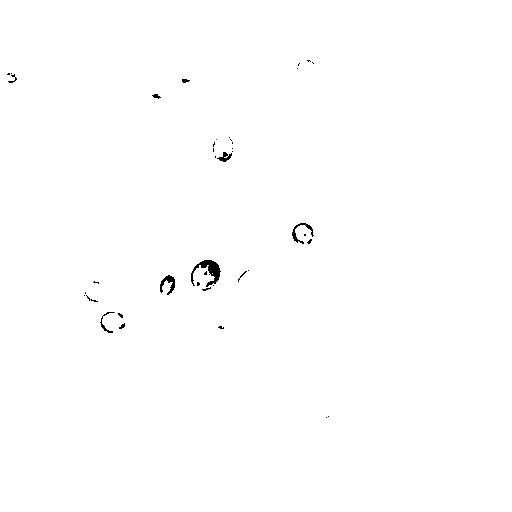micro-algae: (471, 360, 512, 407), (31, 54, 72, 97), (294, 93, 335, 131), (190, 259, 221, 293), (98, 310, 128, 334), (236, 267, 260, 296), (212, 134, 235, 162), (291, 222, 314, 246), (83, 279, 108, 301), (297, 58, 316, 82), (158, 275, 177, 297), (178, 73, 195, 87), (3, 71, 17, 83)
